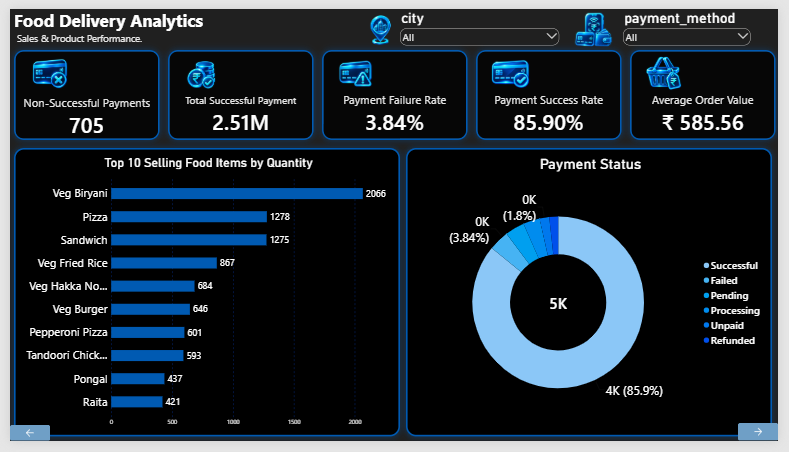

The page's visual inventory and layout, read from the dashboard file:
{"tool":"powerbi","page":{"name":"Sales Report","canvas":[1920,1080],"ordinal":1},"visuals":[{"type":"slicer","title":"Order by City","fields":{"Values":["food_delivery_analytics restaurants.city"]},"box":[970.5,0,408.3,105],"z":0},{"type":"slicer","fields":{"Values":["food_delivery_analytics payments.payment_method"]},"box":[1528.1,0,328.9,107.3],"z":1000},{"type":"textbox","box":[9,0,529.2,151.5],"z":2000},{"type":"cardVisual","fields":{"Data":["food_delivery_analytics payments.Average Order Value"]},"box":[1551,102,364,225],"z":3000},{"type":"cardVisual","fields":{"Data":["food_delivery_analytics payments.Payment Success Rate"]},"box":[1165.6,102,364,225],"z":4000},{"type":"cardVisual","fields":{"Data":["food_delivery_analytics payments.Total Successful Revenue"]},"box":[394.7,102,364,225],"z":5000},{"type":"cardVisual","fields":{"Data":["food_delivery_analytics payments.Non-Successful Payments"]},"box":[9.3,102.3,364,225],"z":6000},{"type":"cardVisual","fields":{"Data":["food_delivery_analytics payments.Payment Failure Rate"]},"box":[780.2,102,364,225],"z":7000},{"type":"clusteredBarChart","title":"Top 10 Selling Food Items by Quantity","fields":{"Category":["food_delivery_analytics order_items.item_name"],"Y":["Sum(food_delivery_analytics order_items.quantity)"]},"box":[9,348,965,720.9],"z":8000},{"type":"donutChart","title":" Payment Status","fields":{"Category":["food_delivery_analytics payments.payment_status"],"Y":["food_delivery_analytics order_items.Total Payments"]},"box":[990,348,915,720.9],"z":9000},{"type":"actionButton","box":[1819.7,1035.7,100.3,44.3],"z":10000},{"type":"actionButton","box":[0,1040.5,100.3,39.7],"z":11000},{"type":"image","box":[885.6,0,84.2,101.5],"z":12000},{"type":"image","box":[1395.4,0,127.4,105.8],"z":13000}]}

Visuals, with their boxes in screenshot pixels (x1, y1, x2, y2), scaled from the page's 1920x1080 canvas onto the 789x452 screenshot:
"Order by City" slicer: x1=399, y1=0, x2=567, y2=44
slicer - food_delivery_analytics payments.payment_method: x1=628, y1=0, x2=763, y2=45
textbox: x1=4, y1=0, x2=221, y2=63
cardVisual - food_delivery_analytics payments.Average Order Value: x1=637, y1=43, x2=787, y2=137
cardVisual - food_delivery_analytics payments.Payment Success Rate: x1=479, y1=43, x2=629, y2=137
cardVisual - food_delivery_analytics payments.Total Successful Revenue: x1=162, y1=43, x2=312, y2=137
cardVisual - food_delivery_analytics payments.Non-Successful Payments: x1=4, y1=43, x2=153, y2=137
cardVisual - food_delivery_analytics payments.Payment Failure Rate: x1=321, y1=43, x2=470, y2=137
"Top 10 Selling Food Items by Quantity" clusteredBarChart: x1=4, y1=146, x2=400, y2=447
" Payment Status" donutChart: x1=407, y1=146, x2=783, y2=447
actionButton: x1=748, y1=433, x2=788, y2=451
actionButton: x1=0, y1=435, x2=41, y2=451
image: x1=364, y1=0, x2=399, y2=42
image: x1=573, y1=0, x2=626, y2=44
